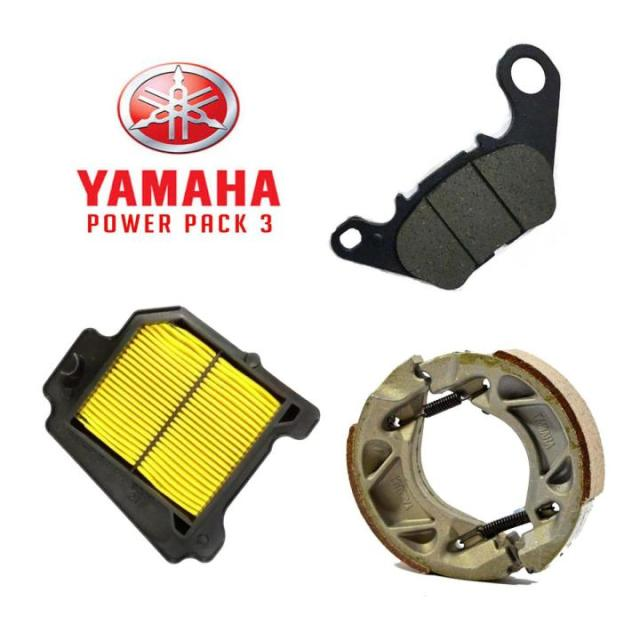air_filter: (39, 309, 324, 568)
brake_pad: (347, 341, 608, 591), (329, 41, 569, 296)
